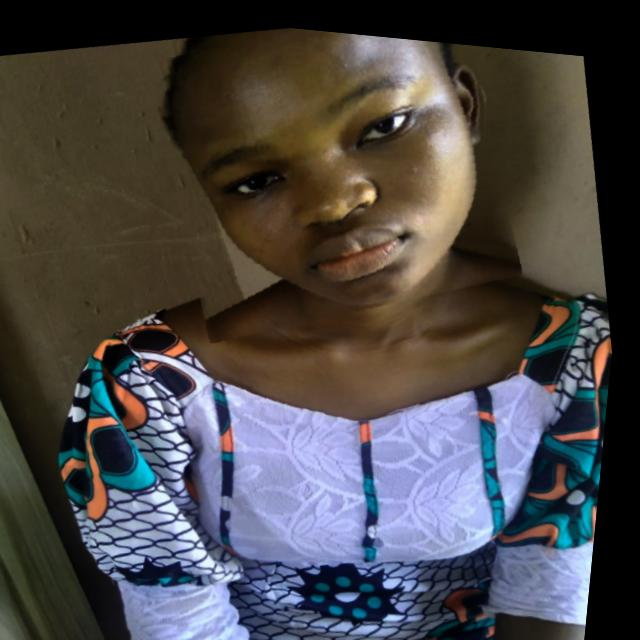sad: (132, 12, 541, 357)
